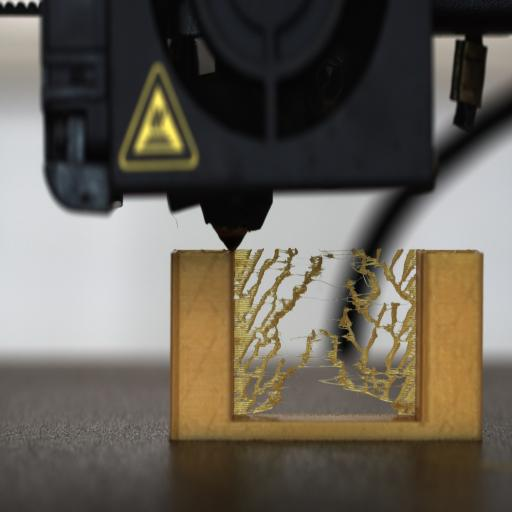stringing: (236, 246, 416, 417), (236, 249, 284, 415), (382, 249, 416, 310), (232, 249, 264, 299), (349, 257, 371, 286), (319, 248, 370, 259), (300, 277, 344, 289), (274, 248, 296, 260), (327, 316, 347, 322), (343, 293, 352, 304), (350, 258, 358, 270)
